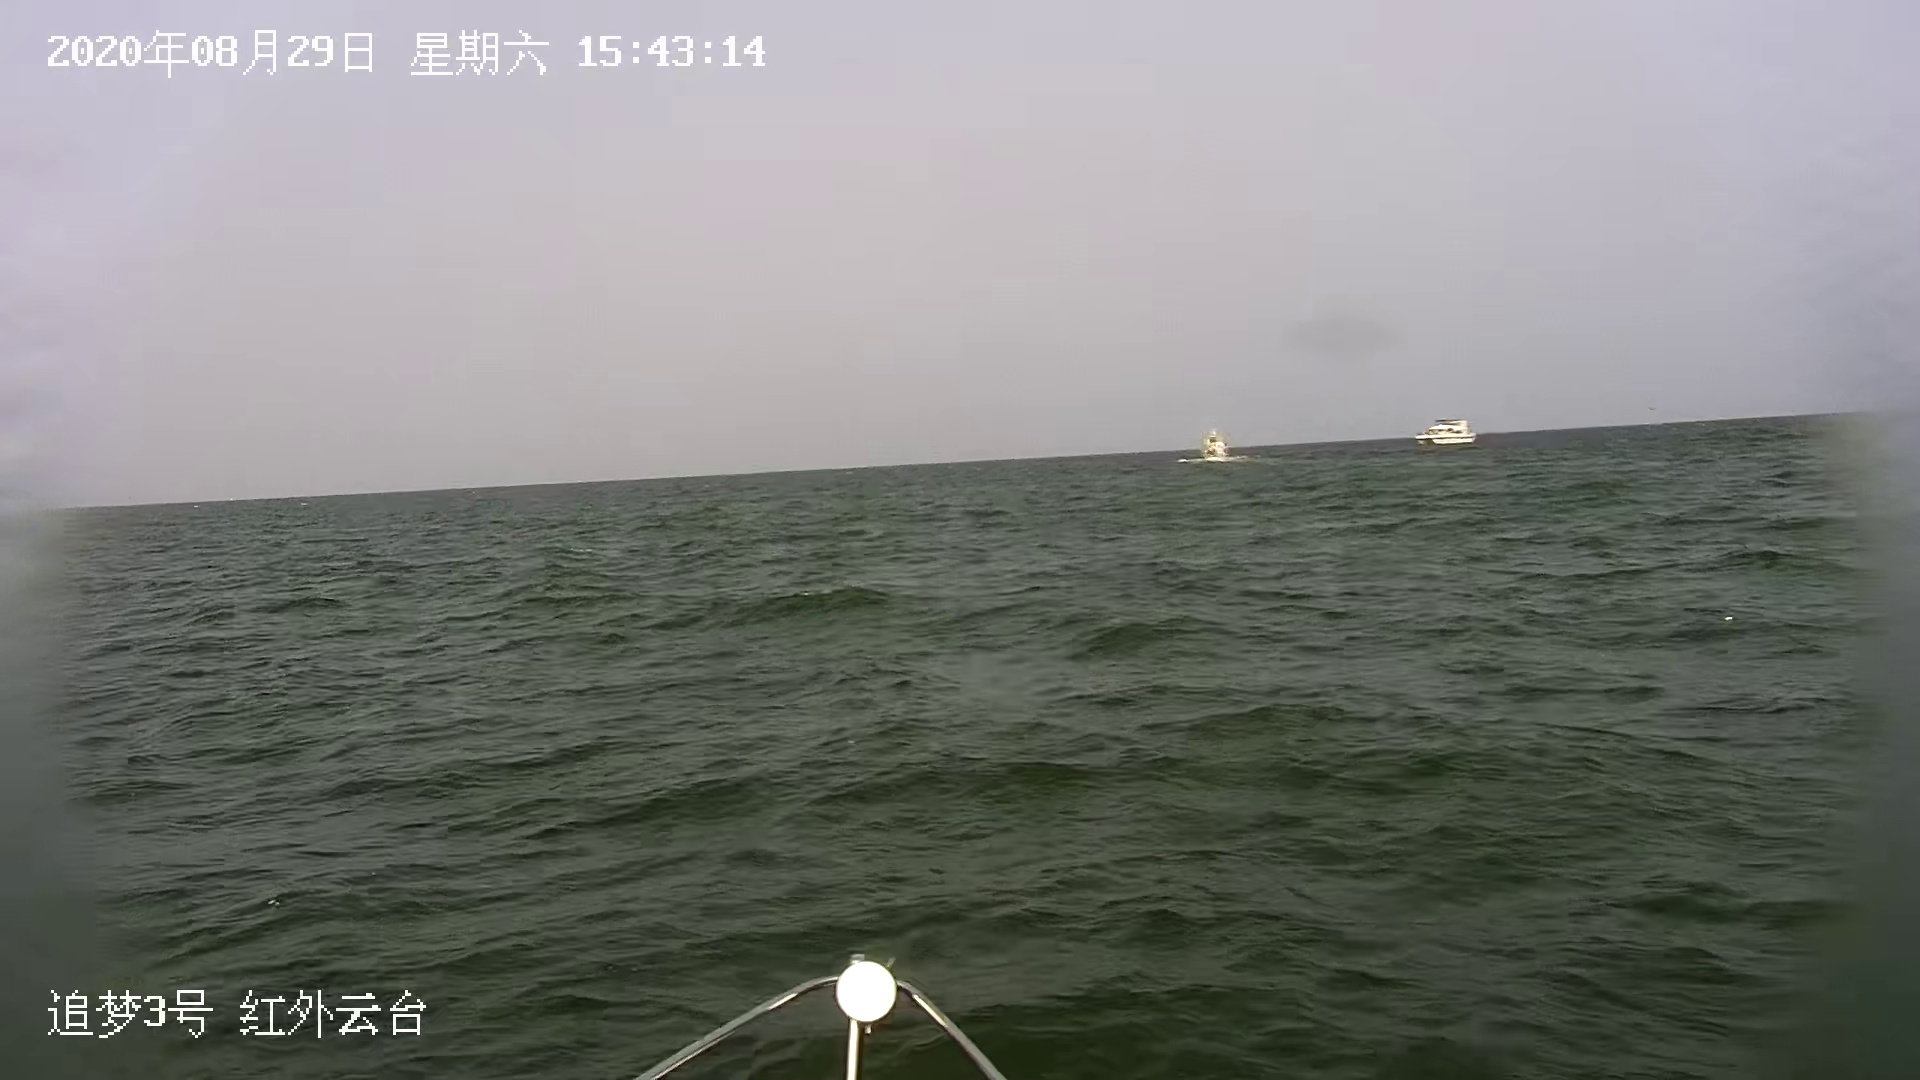barrier: (1180, 429, 1254, 468), (1411, 411, 1480, 454)
